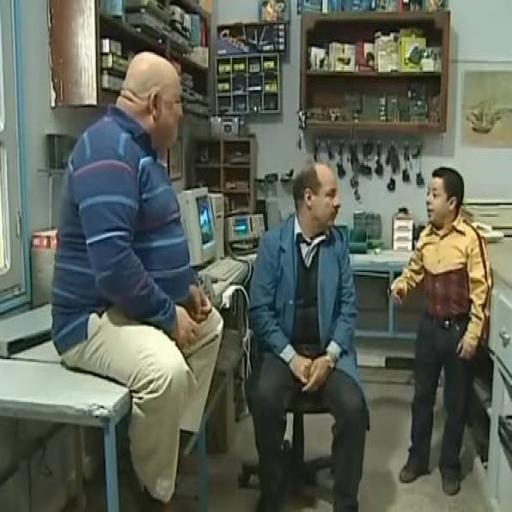beji_matrix: (292, 159, 340, 237)
fouchika: (427, 167, 464, 229)
sboui: (116, 52, 182, 150)
